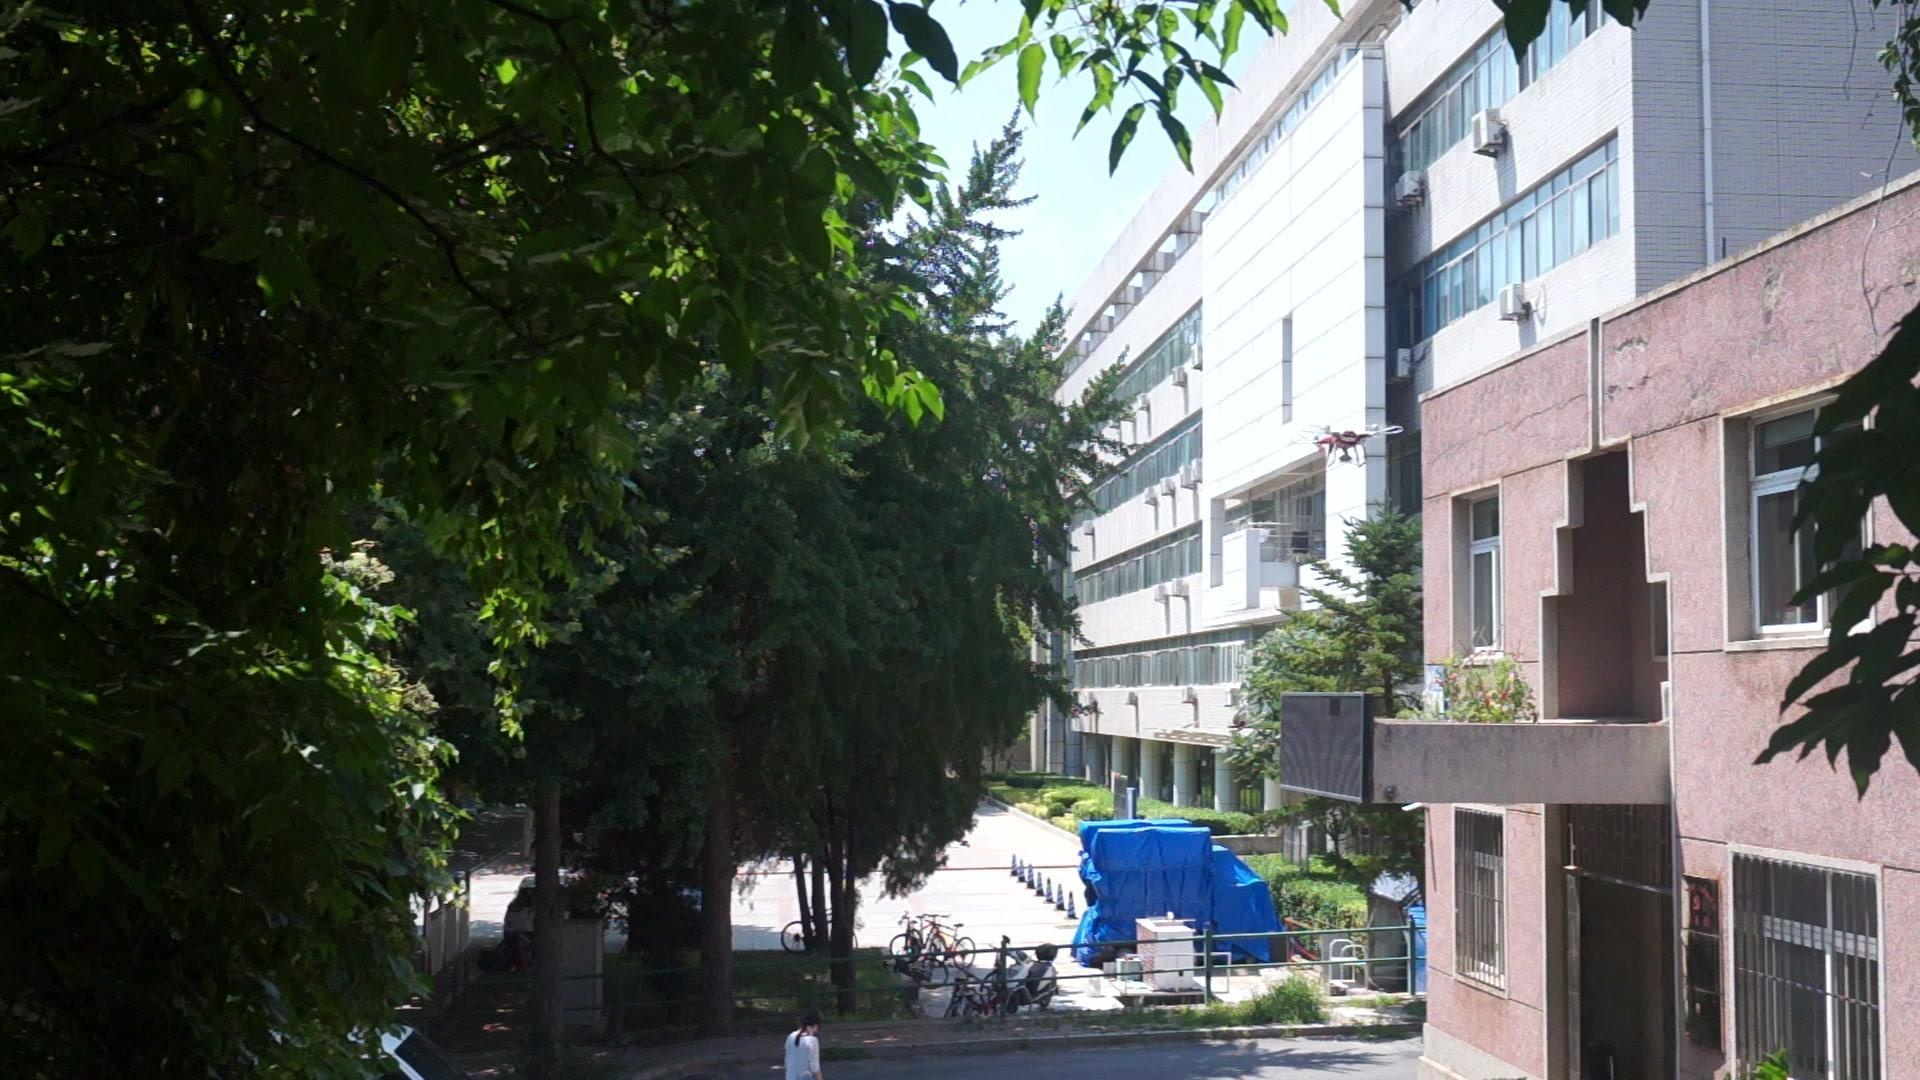UAV: (1294, 425, 1404, 467)
